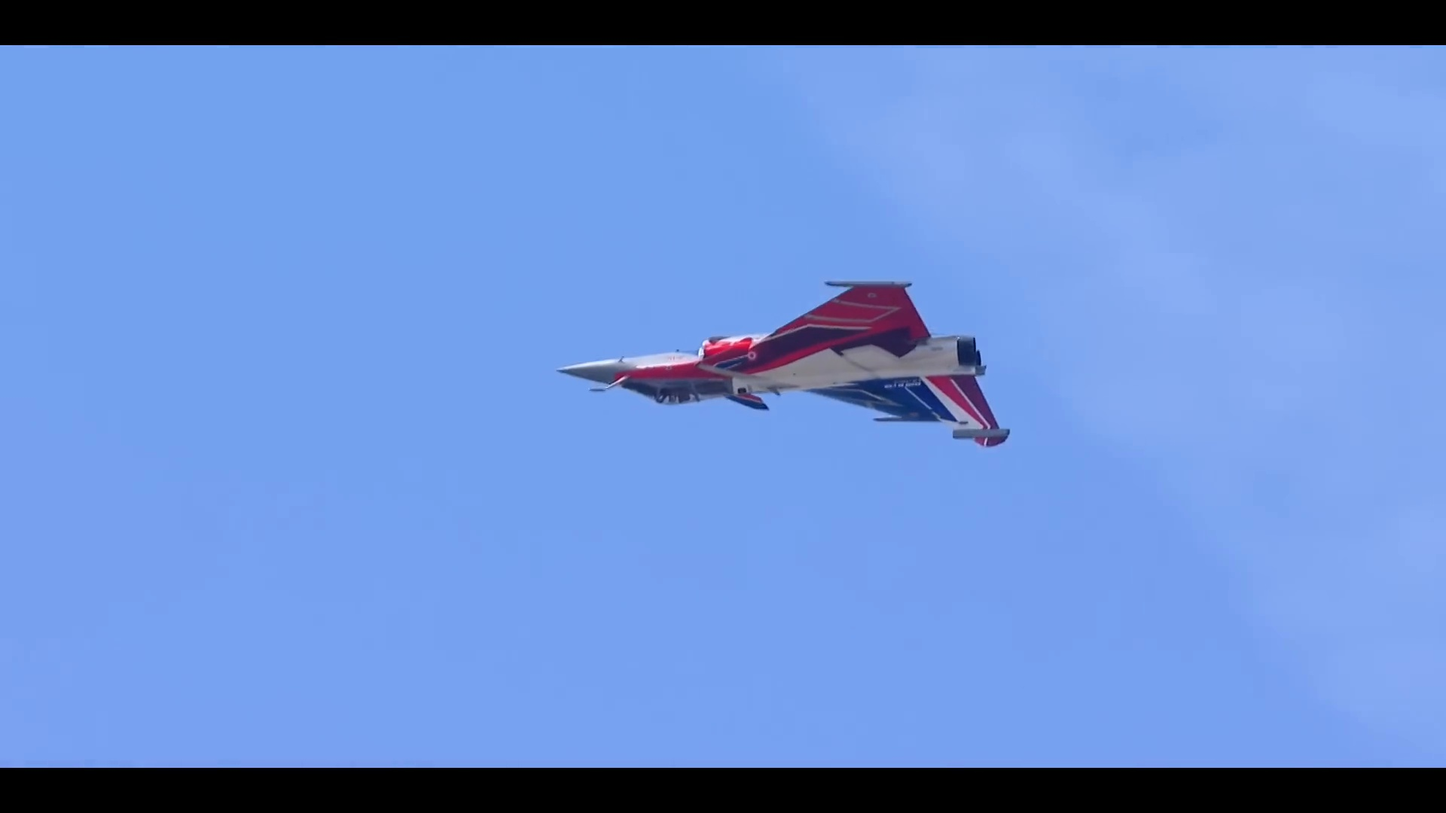Rafale: (552, 273, 1015, 453), (554, 271, 562, 274)
